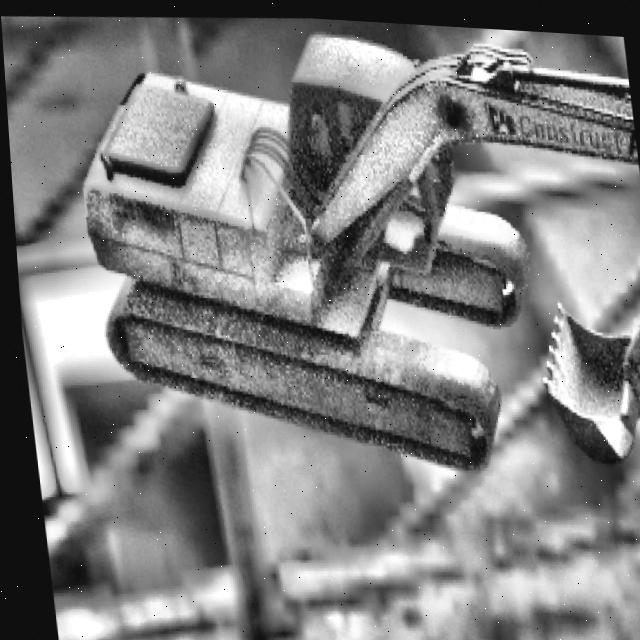excavator: (60, 3, 640, 493)
